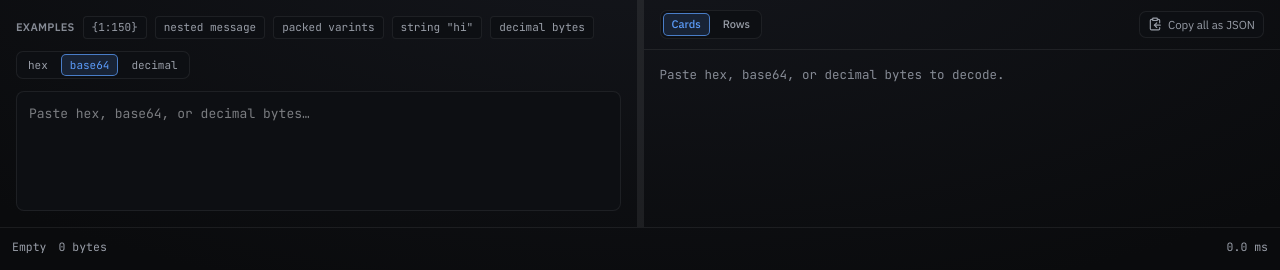
Test case: ProtobufDecoder › the decimal example chip clears a forced-hex override — auto-detect flips to decimal
// Force hex.
Click the button "hex". click: (38, 65)
box: [19, 54, 57, 76]
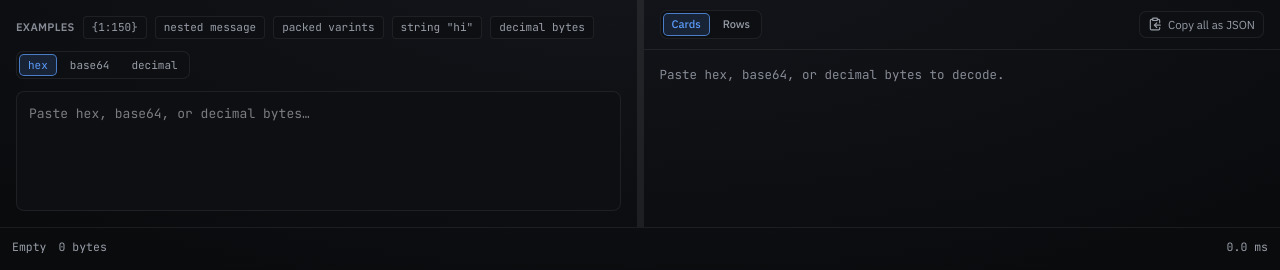
Expected: the button "hex" is pressed, [19, 54, 57, 76]
Click the button "decimal bytes". click: (542, 27)
box: [490, 16, 594, 38]
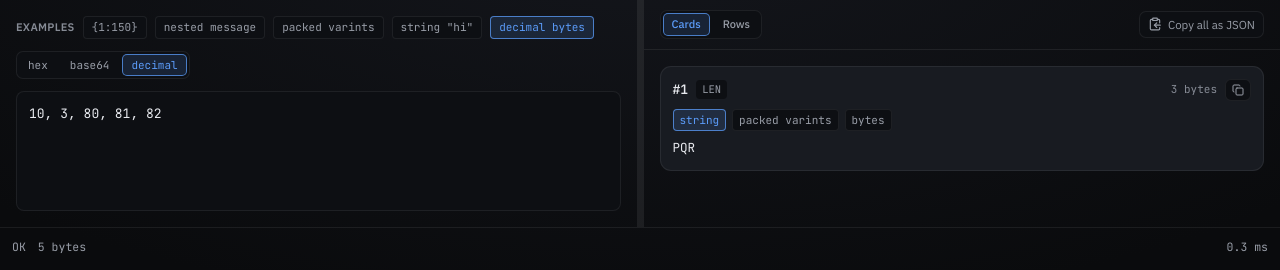
Expected: the text box named "Protobuf input" holds "10, 3, 80, 81, 82", [16, 91, 620, 211]
Expected: the text "#1" is shown, [672, 80, 688, 99]
